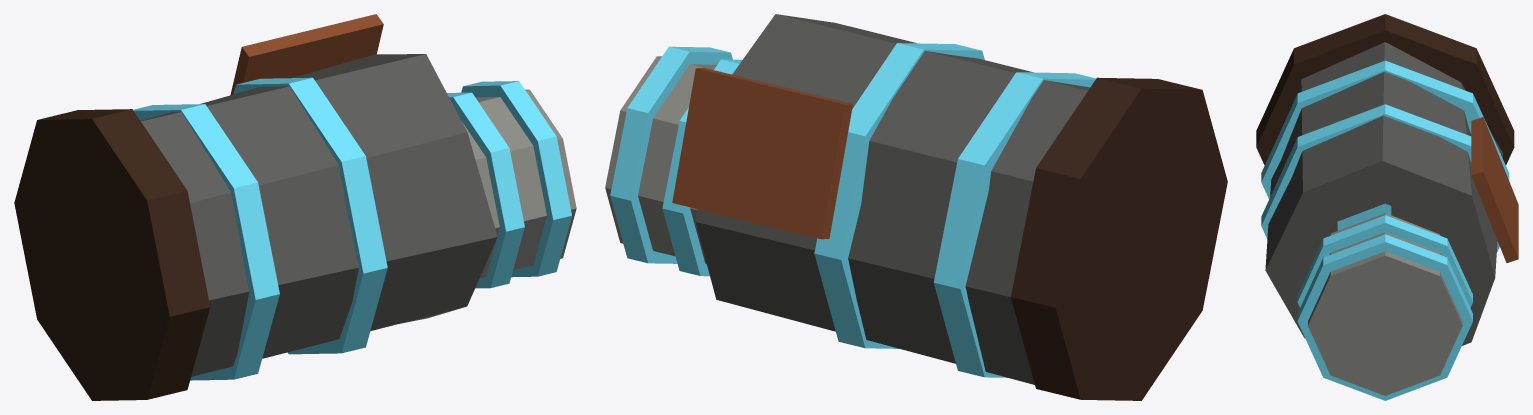
File: power_cell.glb
The picture shows the model from 3 angles, left to right: view 1: azimuth 30°, elevation 25°; view 2: azimuth 150°, elevation 25°; view 3: azimuth 270°, elevation 25°; orthographic projection. The views are drawn at different scales.
Parts seen in each view (by area): view 1: power_cell; view 2: power_cell; view 3: power_cell.
Boxes of the visible parts, x1,y1,x2,y2 form: power_cell: [14, 14, 576, 400]; power_cell: [605, 14, 1227, 400]; power_cell: [1256, 14, 1518, 400].
Bounding box in the file's own units: 3.25 × 2.01 × 2.03.
